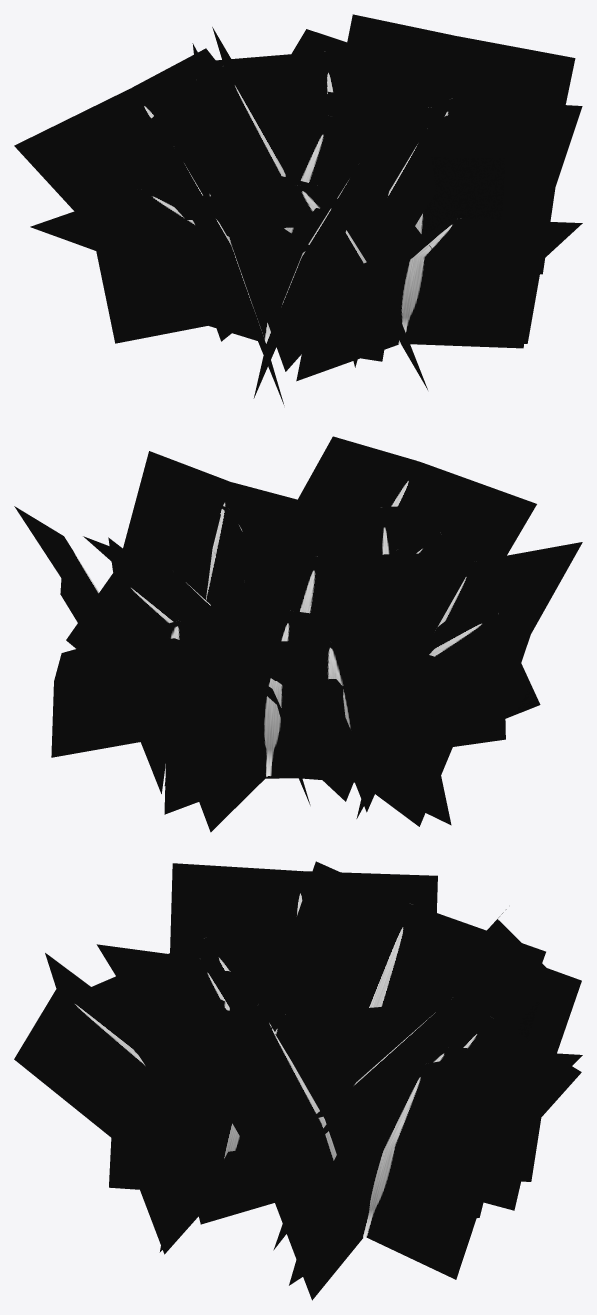
Rendered from WheatPlant01.fbx.
The picture shows the model from 3 angles, top to bottom: view 1: azimuth 30°, elevation 25°; view 2: azimuth 150°, elevation 25°; view 3: azimuth 270°, elevation 25°; orthographic projection. The views are drawn at different scales.
Visible parts, largest first — view 1: WheatPlant01_LOD0; view 2: WheatPlant01_LOD0; view 3: WheatPlant01_LOD0.
Boxes of the visible parts, x1,y1,x2,y2 form: WheatPlant01_LOD0: [14, 14, 582, 405]; WheatPlant01_LOD0: [14, 436, 582, 832]; WheatPlant01_LOD0: [14, 861, 582, 1300].
Size of what is drawn, in the model's own units: 55.32 by 24.08 by 48.57.
